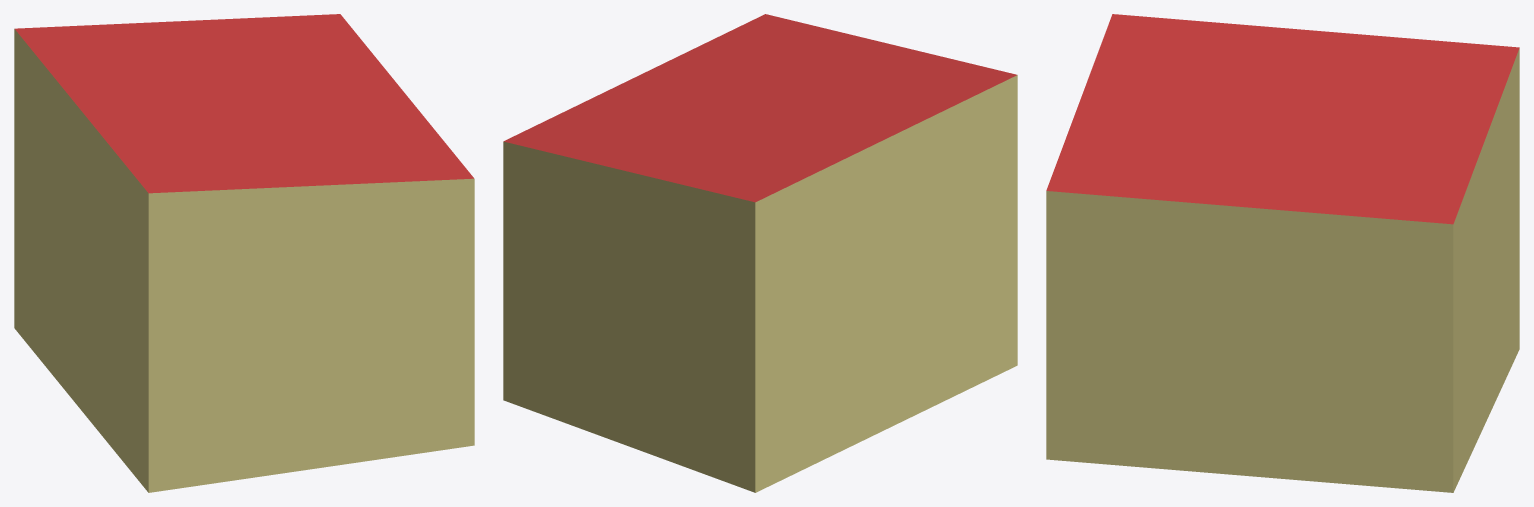
The picture shows the model from 3 angles, left to right: view 1: azimuth 30°, elevation 25°; view 2: azimuth 150°, elevation 25°; view 3: azimuth 270°, elevation 25°; orthographic projection. The views are drawn at different scales.
Size of the model in its own units: 7.66 by 8.64 by 6.07.
